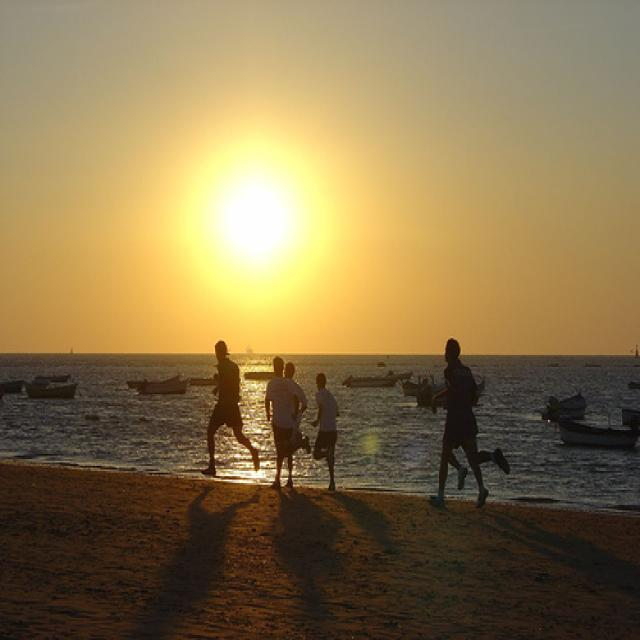Boat: (551, 372, 640, 476), (404, 351, 518, 412), (331, 347, 432, 412), (133, 365, 213, 419), (24, 367, 93, 408)
People: (406, 314, 481, 521), (192, 324, 255, 475), (268, 334, 307, 469), (310, 356, 334, 491)
